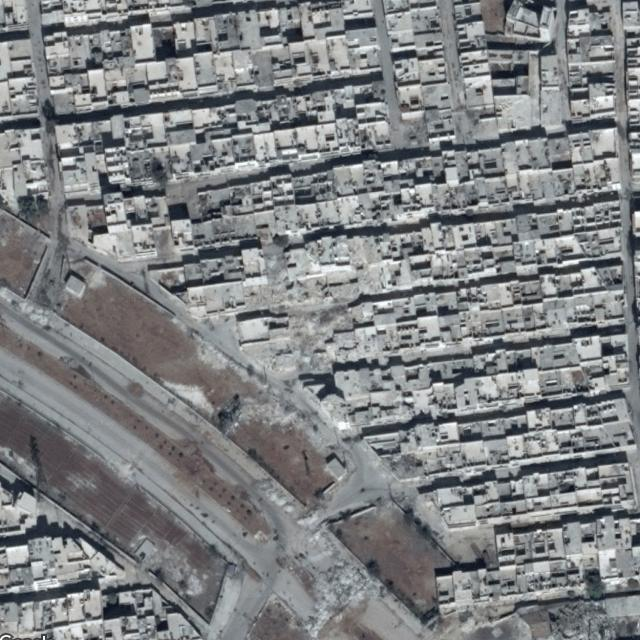damaged_building: (194, 248, 383, 446), (295, 528, 386, 638)
